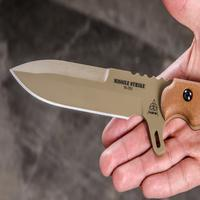knife: (5, 52, 195, 150)
